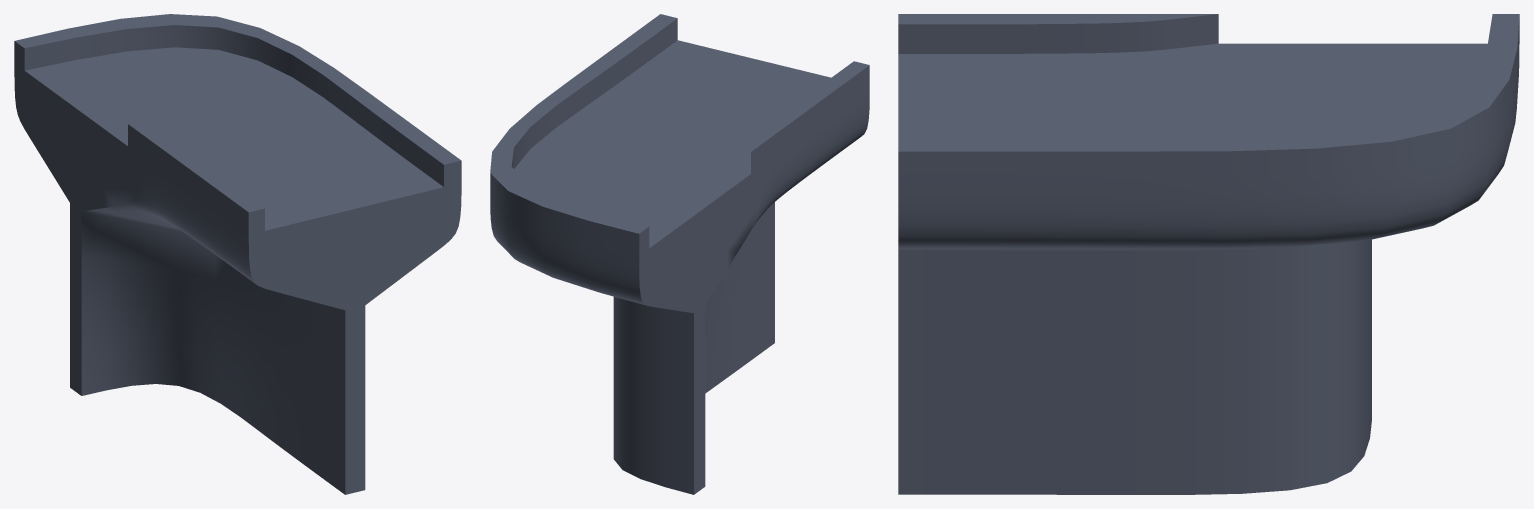
File: conveyer_corner.glb
3 renders of one model, left to right at view 1: azimuth 30°, elevation 25°; view 2: azimuth 150°, elevation 25°; view 3: azimuth 270°, elevation 25°, orthographic. The views are drawn at different scales.
Visible parts, largest first — view 1: conveyor-right; view 2: conveyor-right; view 3: conveyor-right.
Part boxes in pixels (x1,y1,x2,y2): conveyor-right: (14,14,461,494); conveyor-right: (490,14,869,494); conveyor-right: (898,14,1519,494).
Size of the model in its own units: 1.19 by 1.63 by 2.26.
